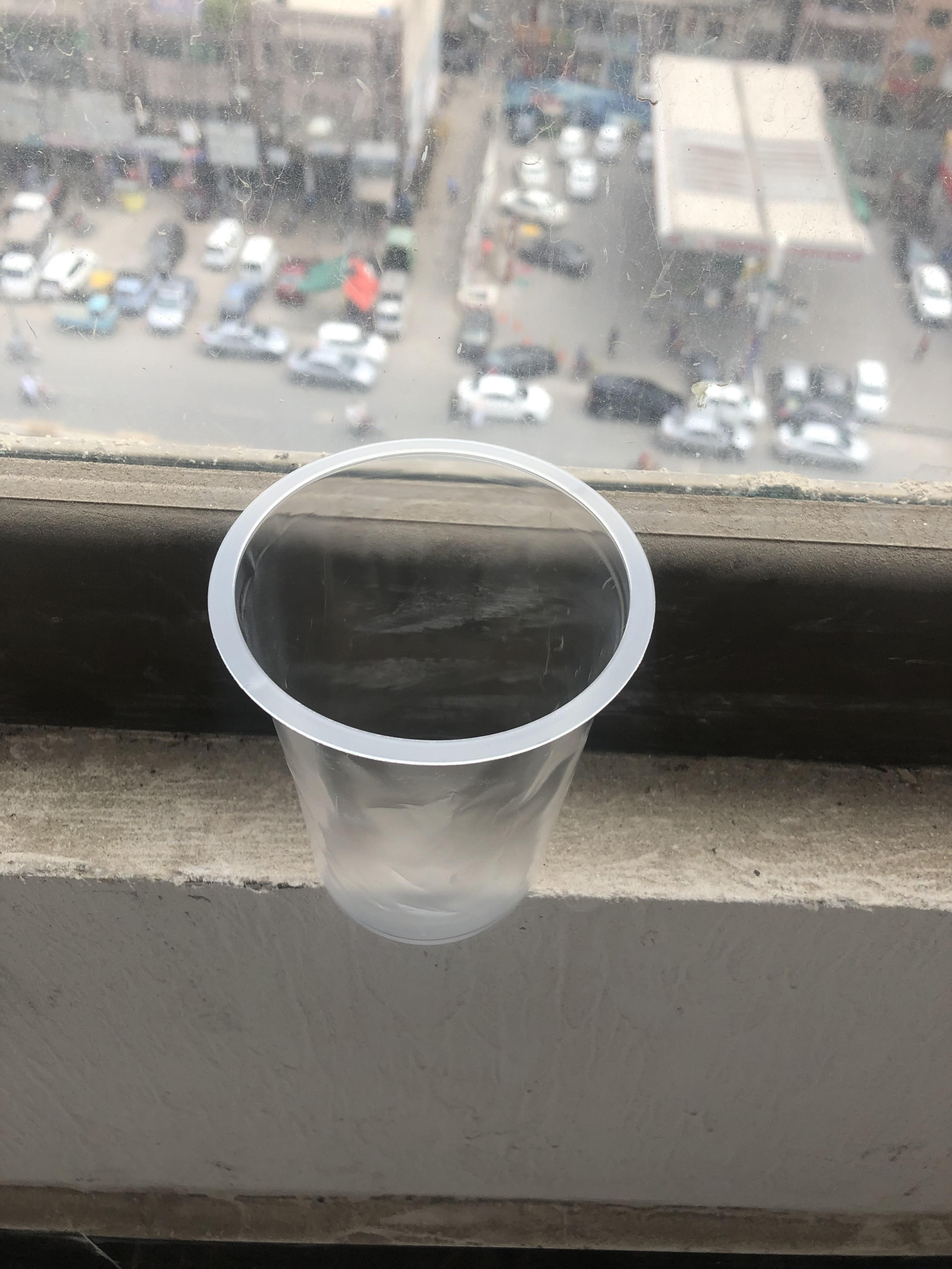cup-disposable: (202, 436, 660, 950)
